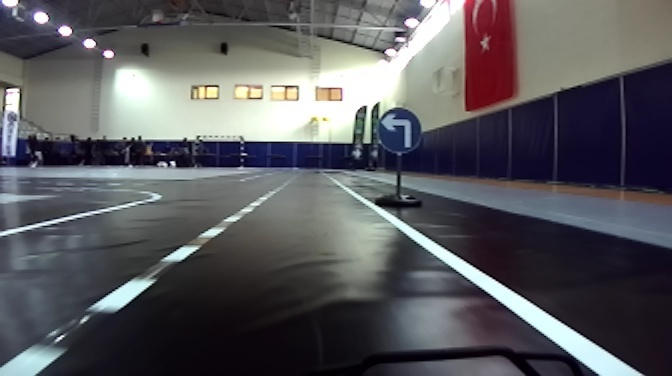sola_donus: (377, 109, 420, 149)
